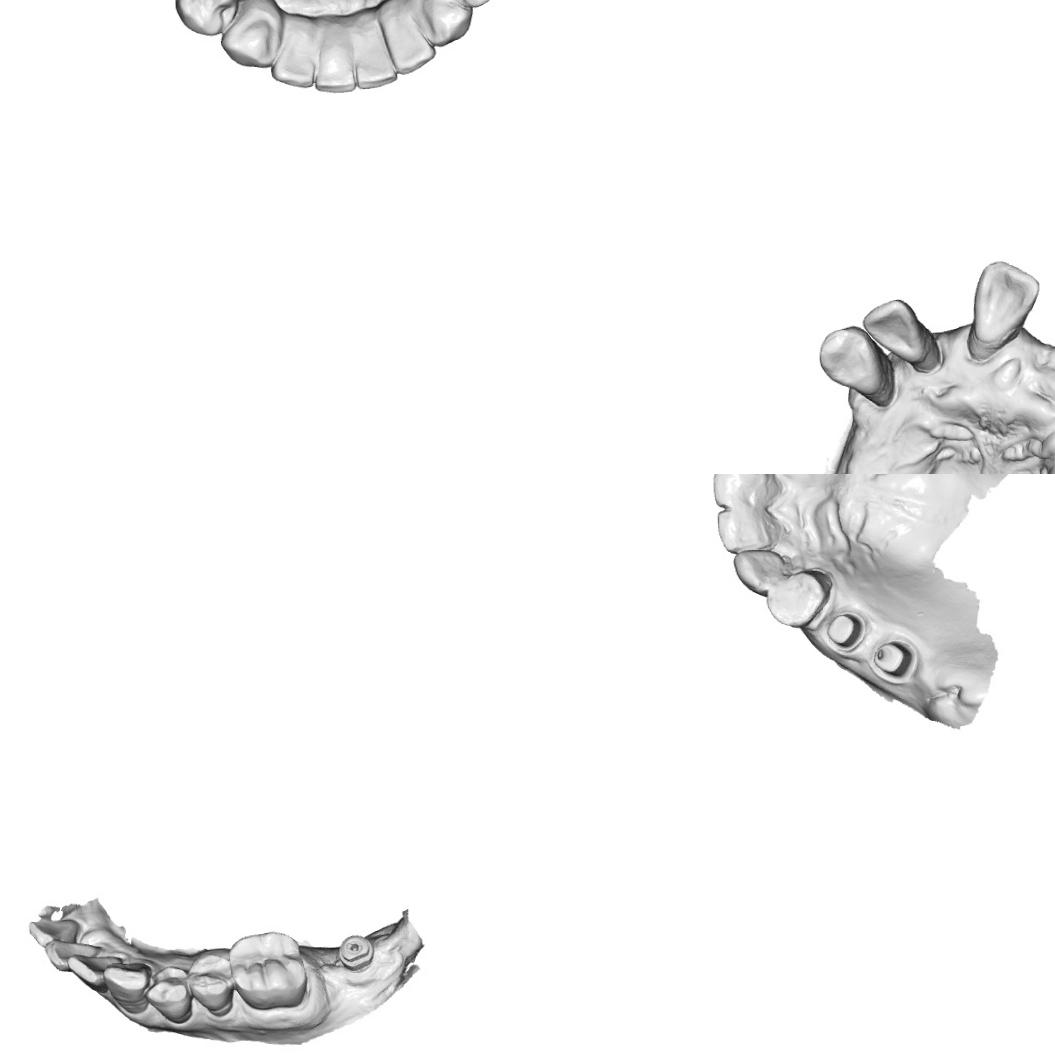abutment: (871, 638, 914, 678), (824, 611, 864, 650)
canine: (816, 325, 891, 405), (218, 0, 285, 70), (412, 0, 474, 51), (102, 960, 154, 1016), (732, 548, 787, 598)
implant_minus: (336, 932, 376, 974)
incisor: (967, 257, 1044, 344), (860, 296, 926, 364), (349, 19, 400, 91), (386, 11, 440, 77), (266, 20, 316, 90), (311, 28, 361, 96), (716, 506, 782, 555), (710, 474, 783, 510), (67, 951, 124, 995), (44, 936, 100, 974), (26, 916, 86, 949)
molar: (227, 928, 309, 1012)
premolar: (764, 569, 831, 629), (184, 950, 236, 1018), (144, 964, 193, 1025), (172, 0, 239, 38)
